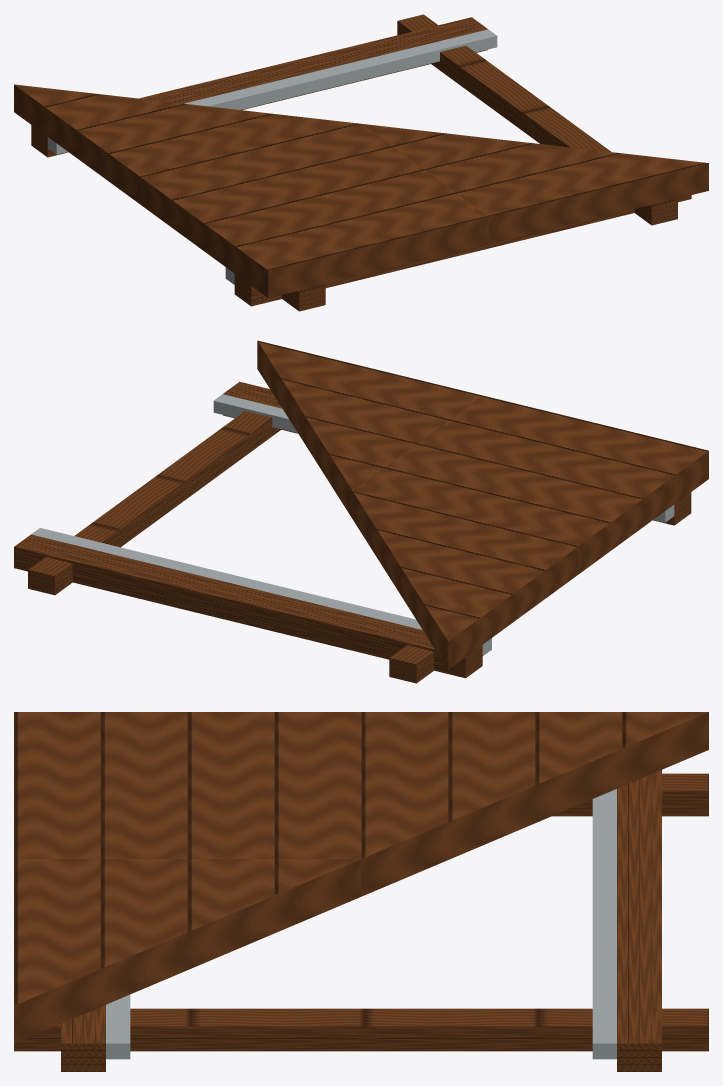
The model's file is modular-survival-base-builder-floor-triangle-reinforce-9d4fd819__24283.glb.
3 renders of one model, top to bottom at view 1: azimuth 30°, elevation 25°; view 2: azimuth 150°, elevation 25°; view 3: azimuth 270°, elevation 25°, orthographic. The views are drawn at different scales.
Parts seen in each view (by area): view 1: floor-triangle-reinforced; view 2: floor-triangle-reinforced; view 3: floor-triangle-reinforced.
Boxes of the visible parts, bbox=[...] form: floor-triangle-reinforced: bbox=[14, 14, 708, 311]; floor-triangle-reinforced: bbox=[14, 340, 708, 683]; floor-triangle-reinforced: bbox=[14, 712, 708, 1071].
Bounding box in the file's own units: 2 × 0.21 × 2.
2 materials, 1 textured.
